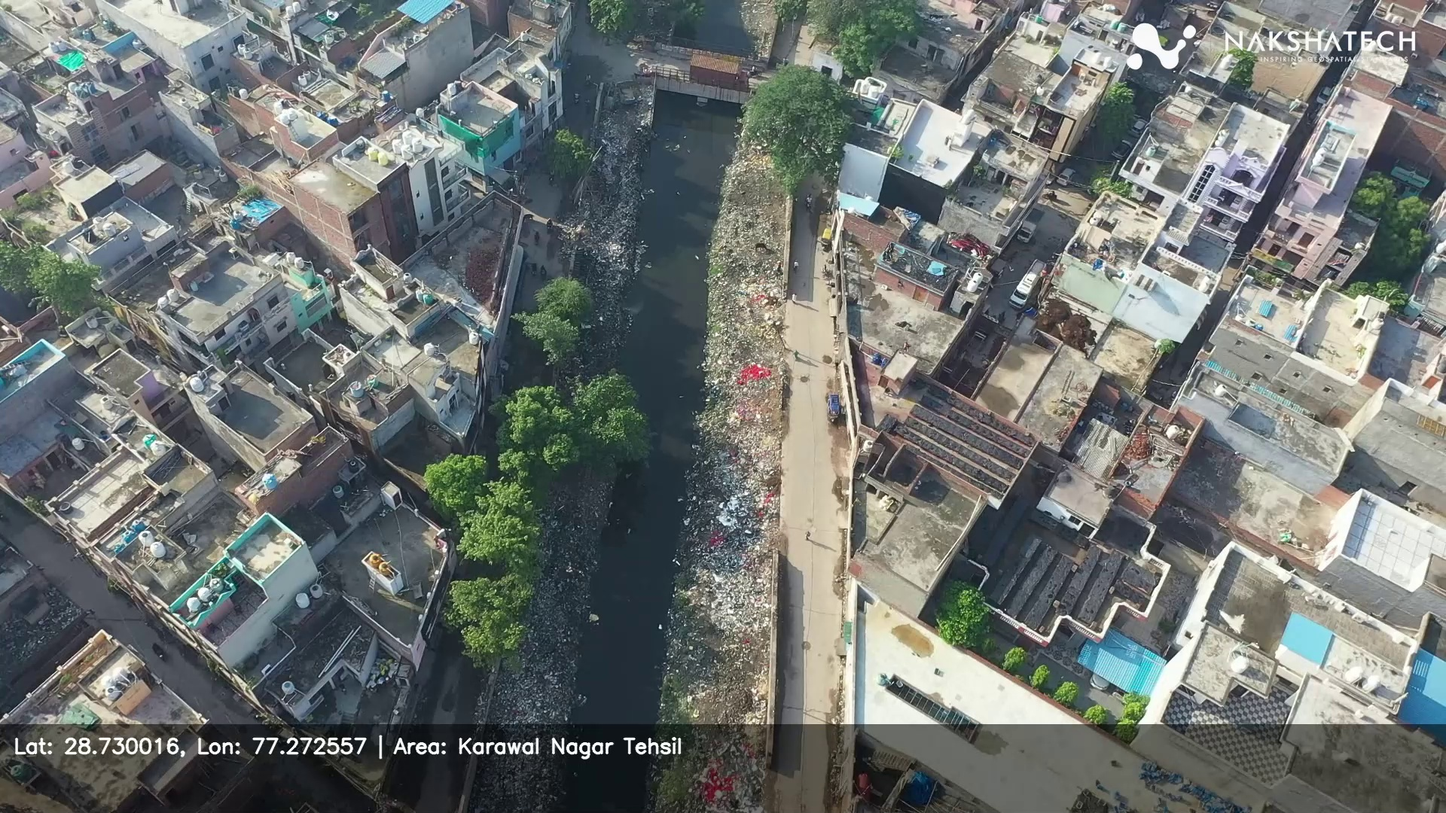Lixo: (608, 287, 652, 333)
